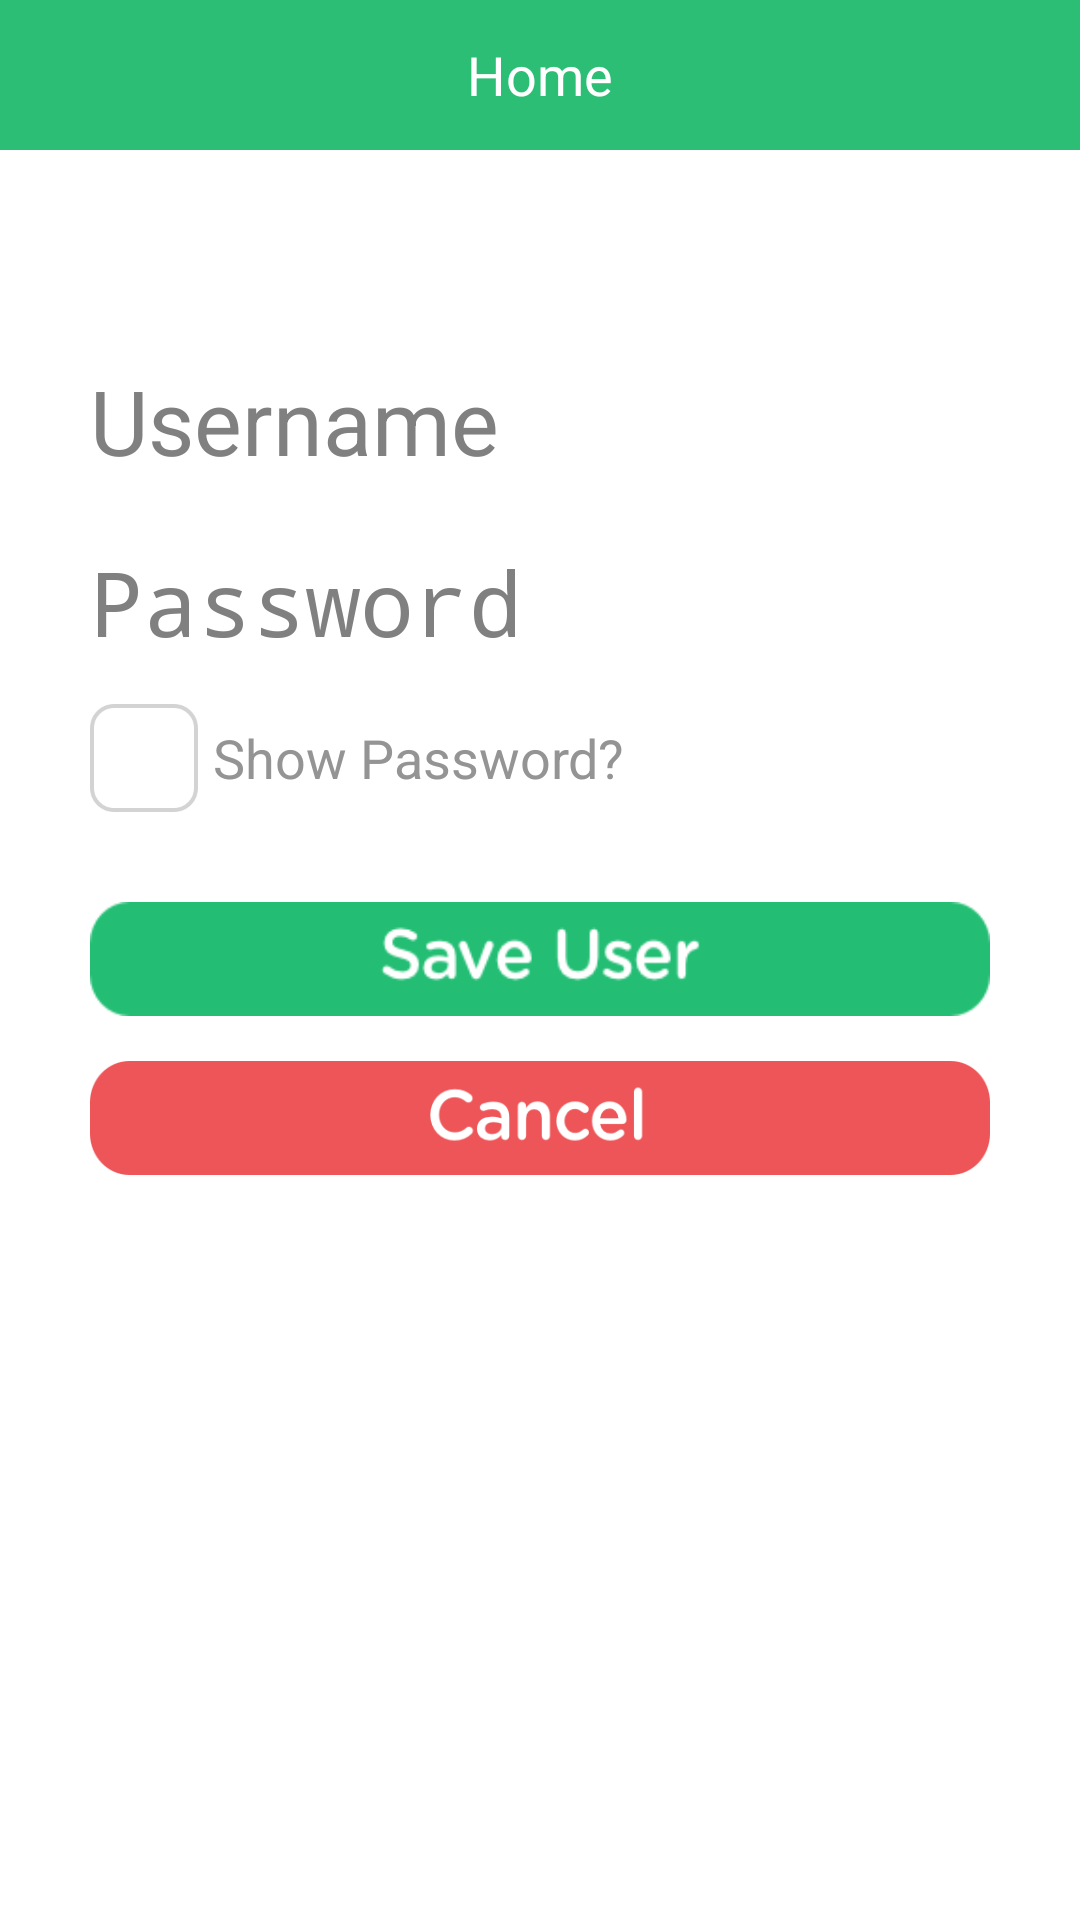

Where icons sit on this 1080*1920 app screen, as (x1, y1, x2, y2):
toggle check: (90, 704, 198, 812)
